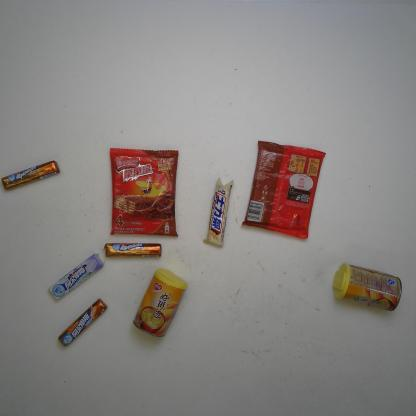Candy: (45, 250, 106, 304), (55, 297, 109, 350), (0, 159, 61, 194), (103, 238, 165, 260)
Canned Food: (129, 266, 189, 340), (331, 262, 407, 316)
Chocolate: (202, 173, 237, 249)
Dessert: (240, 137, 331, 243), (106, 143, 182, 241)
